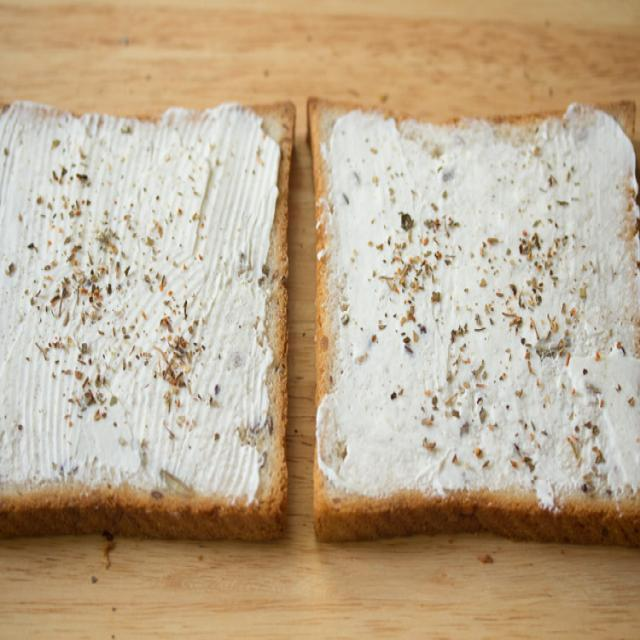Spread: (324, 114, 640, 486), (1, 120, 268, 488)
